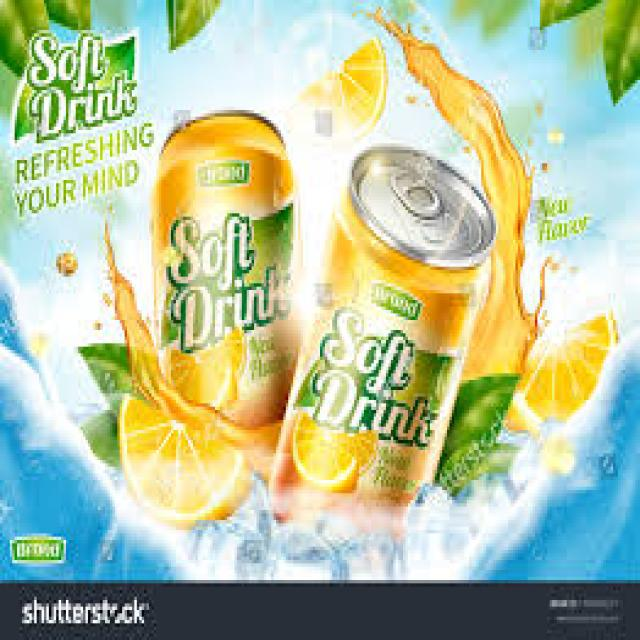Cans: (274, 140, 501, 533), (144, 104, 303, 424)
